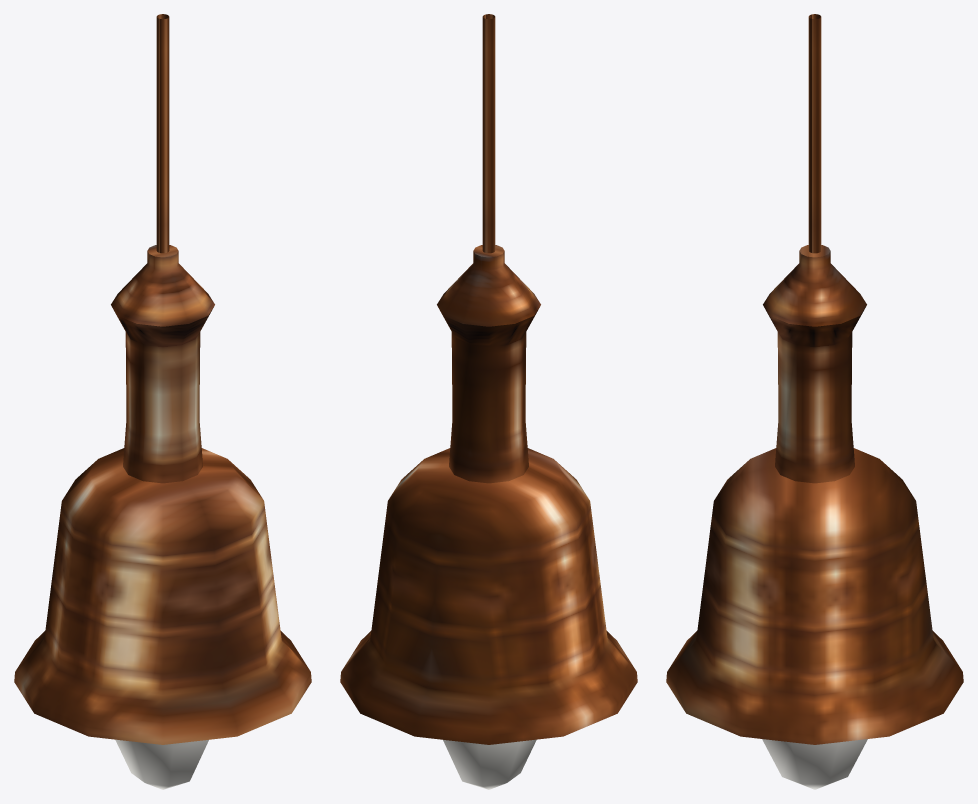
Rendered from hanging_light_single.fbx.
The picture shows the model from 3 angles, left to right: view 1: azimuth 30°, elevation 25°; view 2: azimuth 150°, elevation 25°; view 3: azimuth 270°, elevation 25°; orthographic projection.
Visible parts, largest first — view 1: hanging_light_single; view 2: hanging_light_single; view 3: hanging_light_single.
Boxes of the visible parts, <box> form: hanging_light_single: <box>14,14,311,789</box>; hanging_light_single: <box>340,14,637,789</box>; hanging_light_single: <box>666,14,963,789</box>.
Size of the model in its own units: 36.29 by 104 by 36.29.
